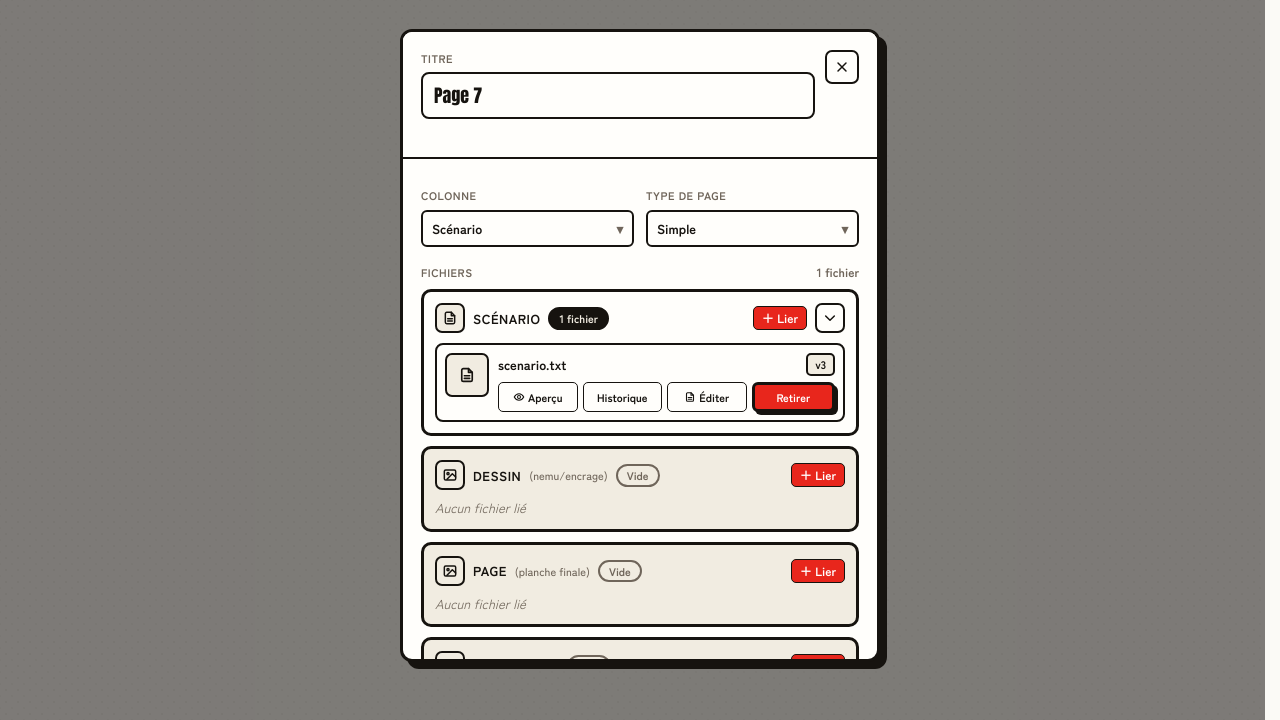
Test: CardModal › opens the Aperçu overlay for a linked file
Expected: the text "scenario.txt" is shown, x1=498 y1=355 x2=566 y2=374
Click the button with aria-label "Aperçu de scenario.txt". click: point(538, 397)
box: x1=498 y1=382 x2=578 y2=412
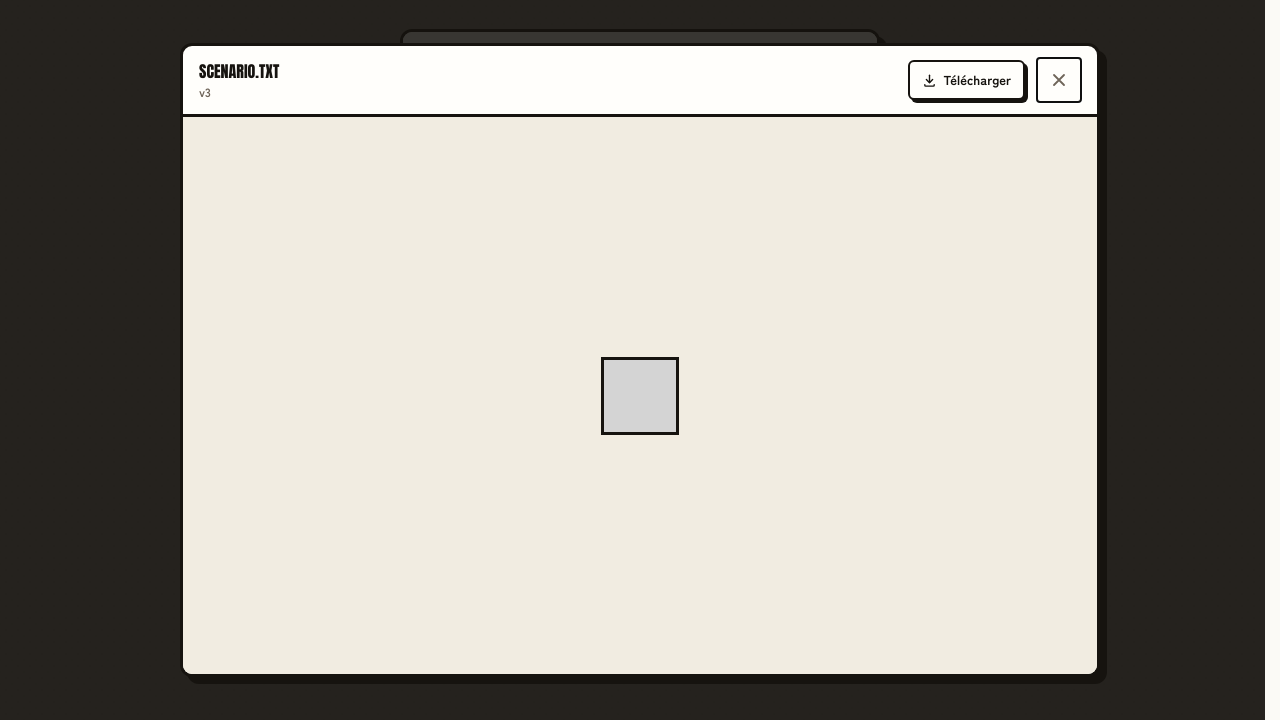
Expected: the button named "Fermer l’aperçu" is shown, x1=1037 y1=58 x2=1081 y2=102
